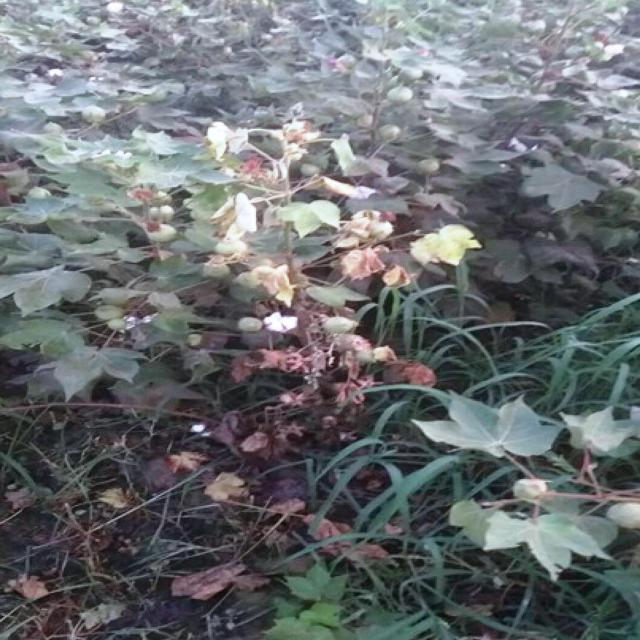Fusarium Wilt: (93, 62, 484, 526)
